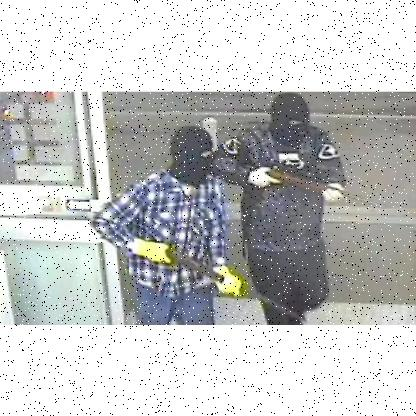gun: (130, 237, 308, 319), (244, 159, 388, 209)
